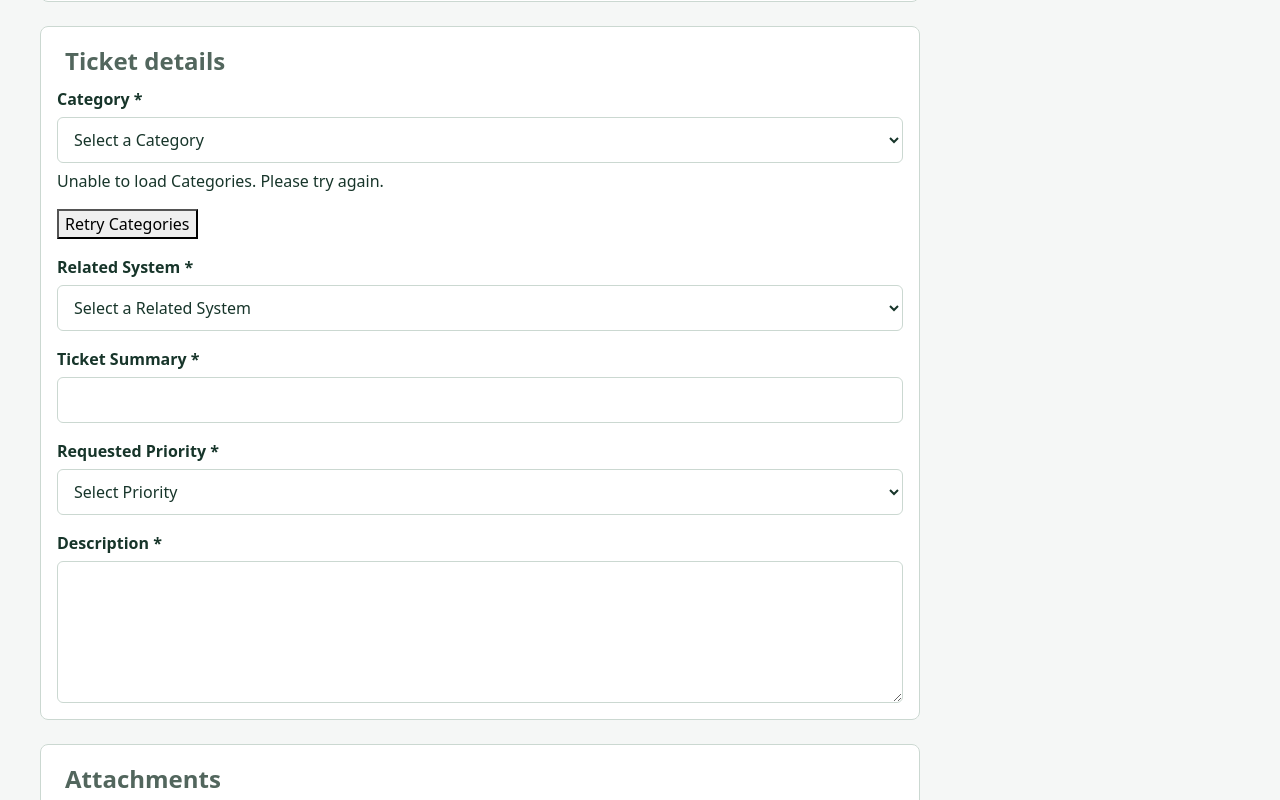
Test: UI-03 Create Ticket Form › shows safe independent Category failure with Retry preserving entered text
This screenshot has width=1280, height=800.
(page scrolled)
Expected: the text "Unable to load Categories. Please try again." is shown, [57,170,384,192]
Expected: the button "Retry Categories" is shown, [57,209,198,239]
Note: Enter some data before retrying to verify preservation
Type "Test Summary" into the field labelled "Ticket Summary *" at (480,400), box [57,377,903,423]
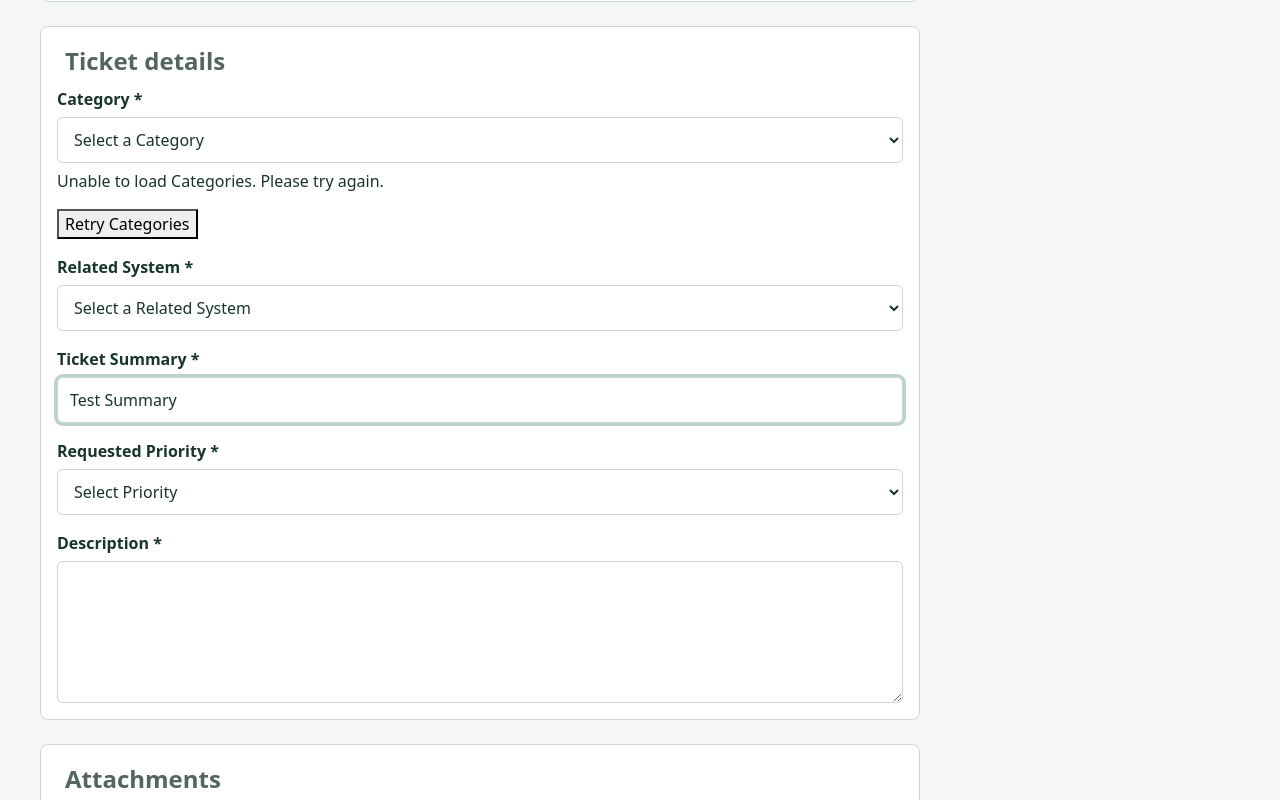
Click the button "Retry Categories" at (127,224), box [57,209,198,239]
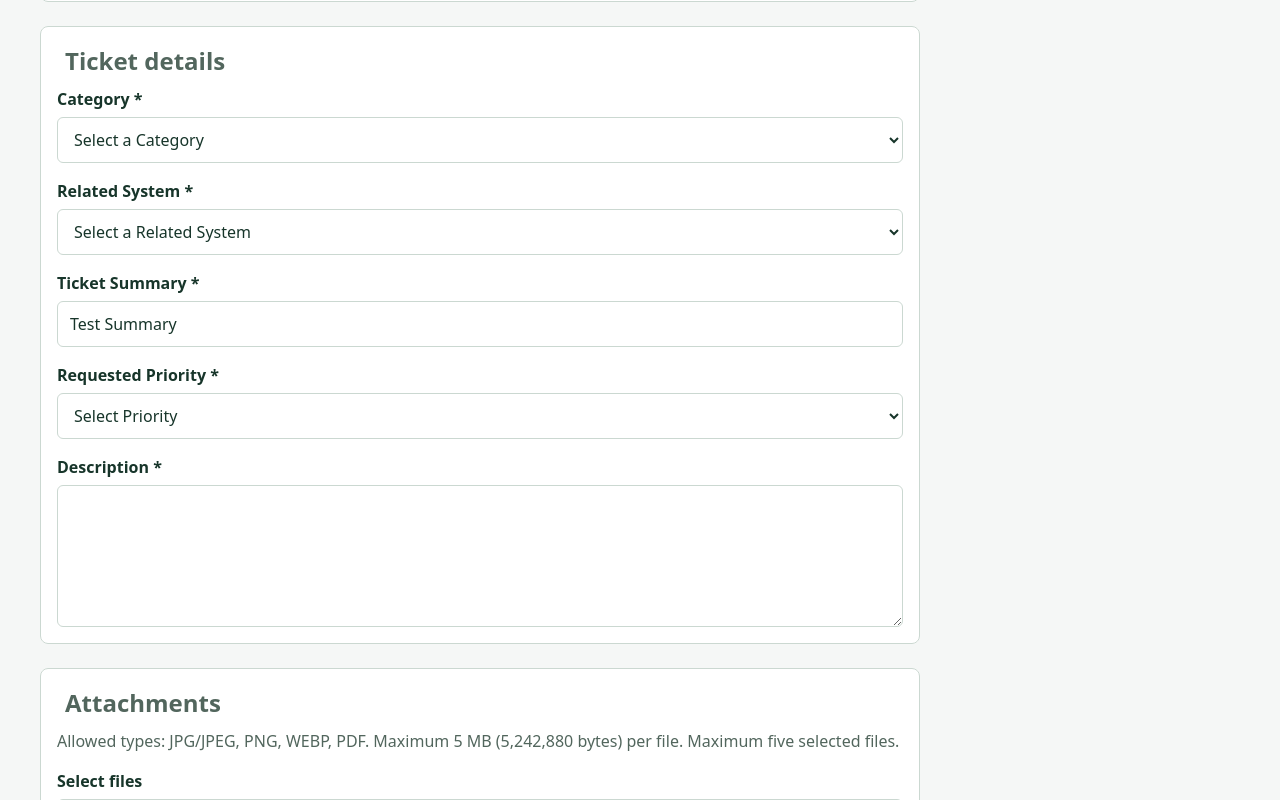
Result: the text "Unable to load Categories" is gone
